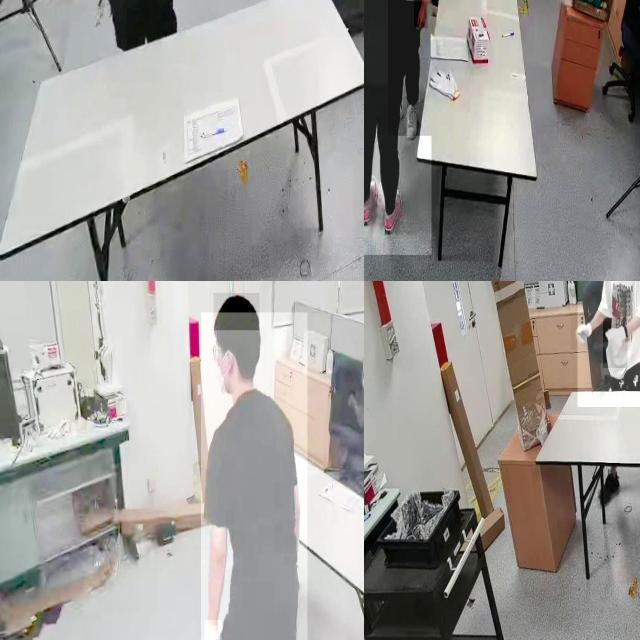hand_glove: (603, 318, 628, 369), (571, 314, 595, 350), (204, 620, 222, 640)
hand_noglove: (414, 2, 428, 29)
head_nohelmet: (214, 293, 260, 331)
person: (201, 312, 308, 640), (364, 0, 431, 256), (577, 281, 640, 408), (388, 0, 432, 135)
shoes: (381, 186, 406, 238), (596, 468, 620, 510), (364, 173, 378, 227), (403, 97, 419, 143)
